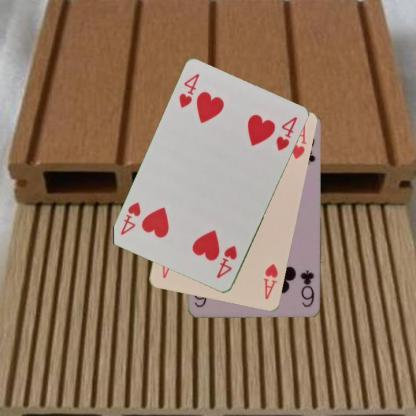4h: (176, 71, 201, 110), (214, 243, 238, 280)
6c: (298, 268, 316, 310)
Ah: (262, 261, 280, 301)
